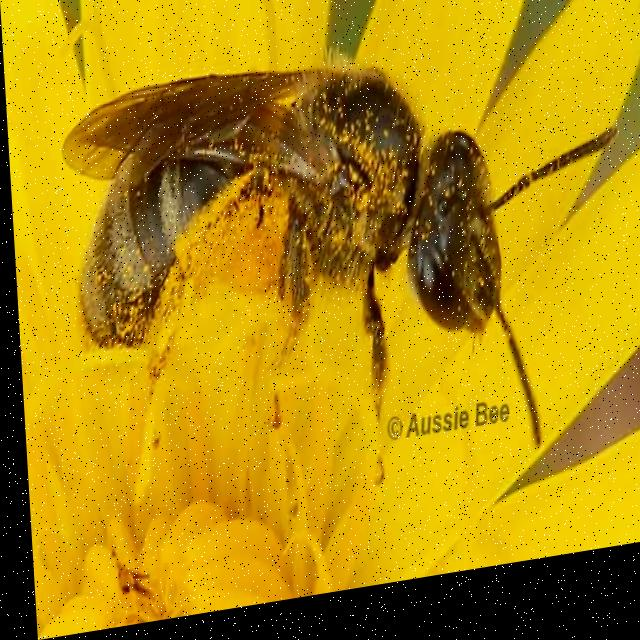Lasioglossum: (65, 0, 548, 530)
